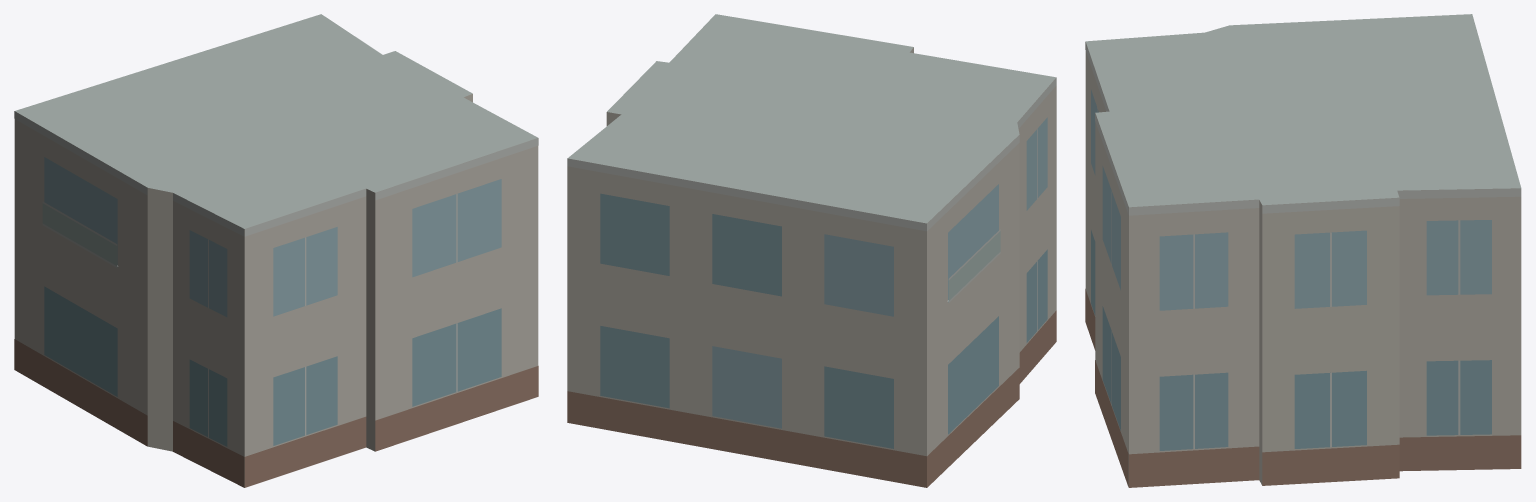
File: survey-upis-32765444.glb
The picture shows the model from 3 angles, left to right: view 1: azimuth 30°, elevation 25°; view 2: azimuth 150°, elevation 25°; view 3: azimuth 270°, elevation 25°; orthographic projection. The views are drawn at different scales.
Parts seen in each view (by area): view 1: survey-upis-32765444.tmp; view 2: survey-upis-32765444.tmp; view 3: survey-upis-32765444.tmp.
Boxes of the visible parts, left/top/right/bottom form: survey-upis-32765444.tmp: left=14, top=14, right=538, bottom=487; survey-upis-32765444.tmp: left=567, top=14, right=1056, bottom=487; survey-upis-32765444.tmp: left=1085, top=14, right=1521, bottom=487.
Size of the model in its own units: 11.98 by 8.1 by 11.41.
